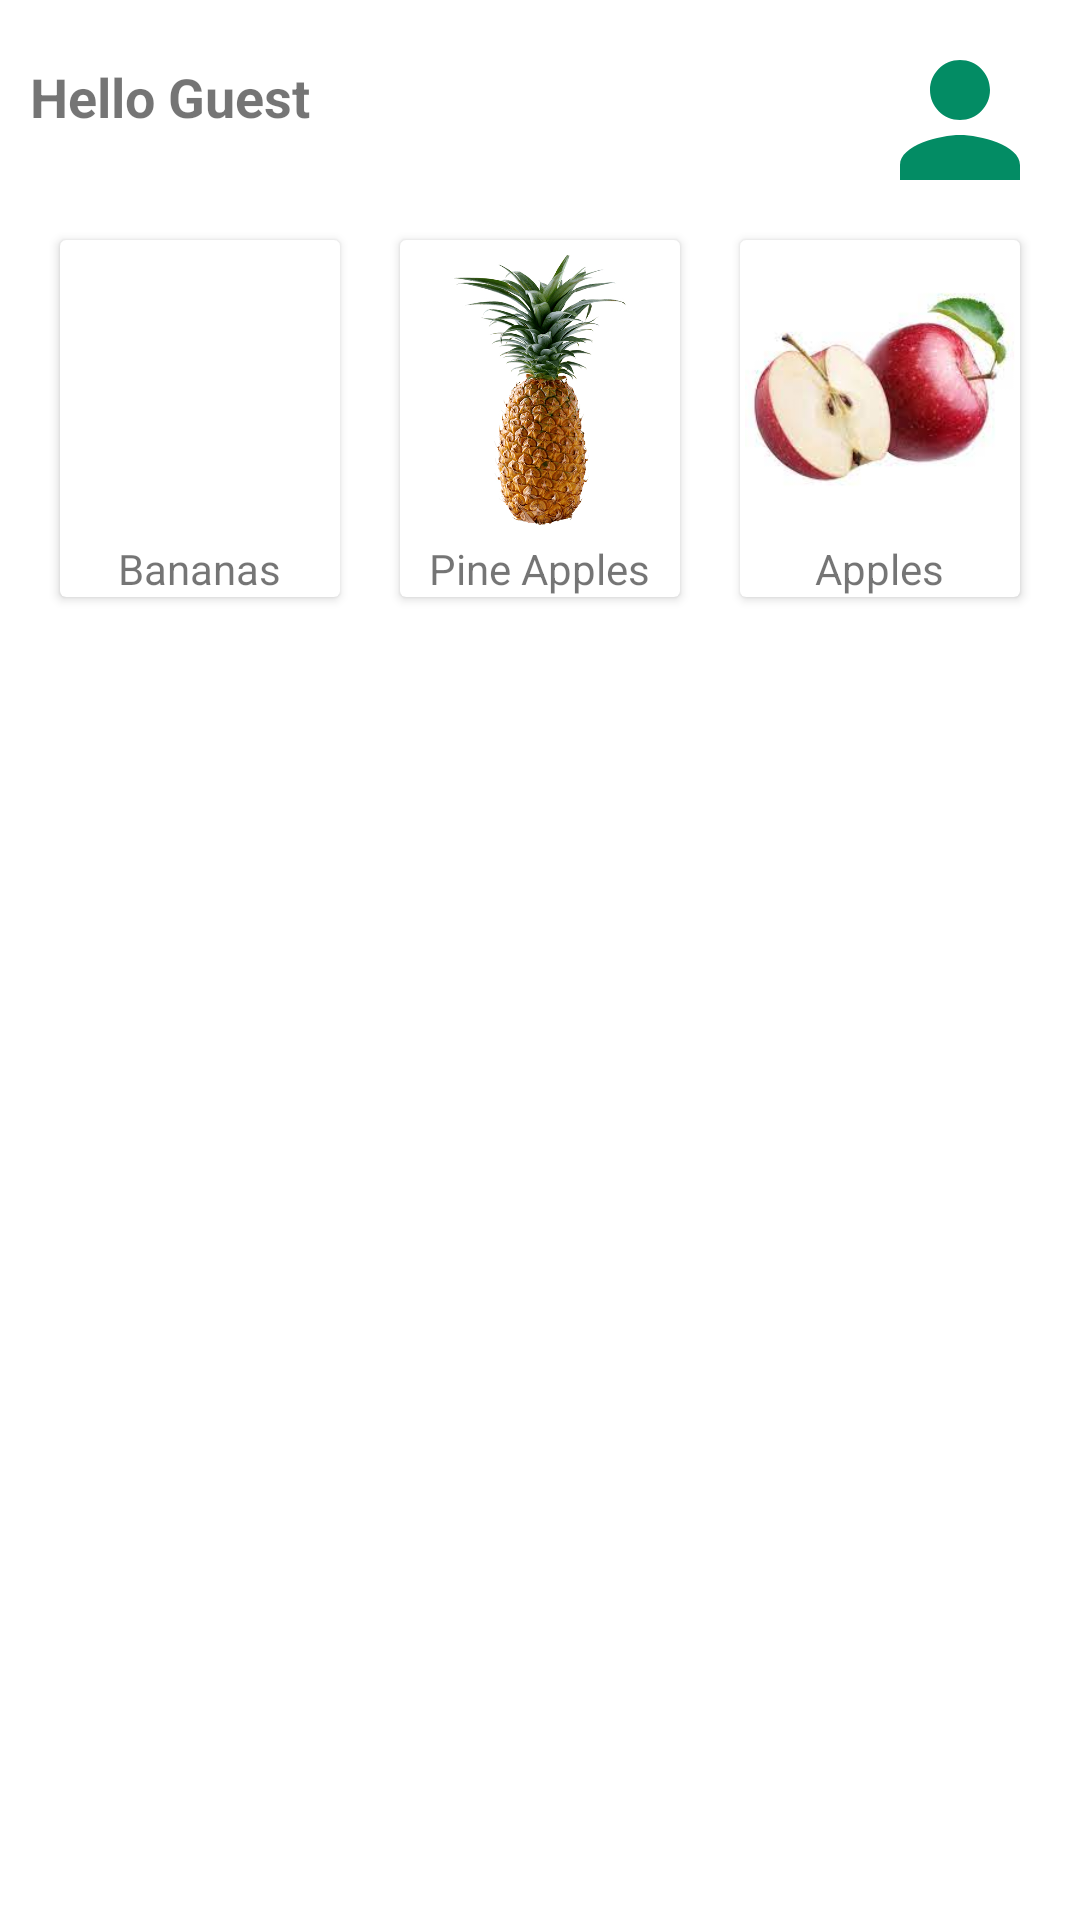

Screen size 1080px x 1920px. Icon name, then its center in pixels as [x,y]:
person: [960,120]
